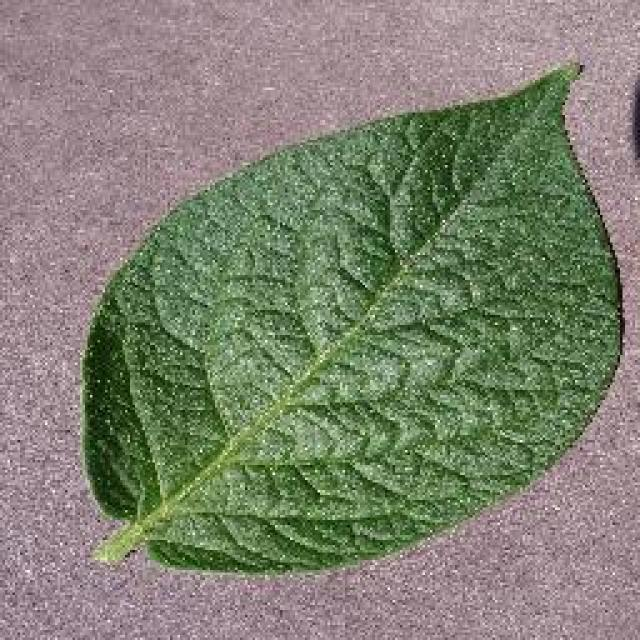Potato: (77, 58, 625, 578)
